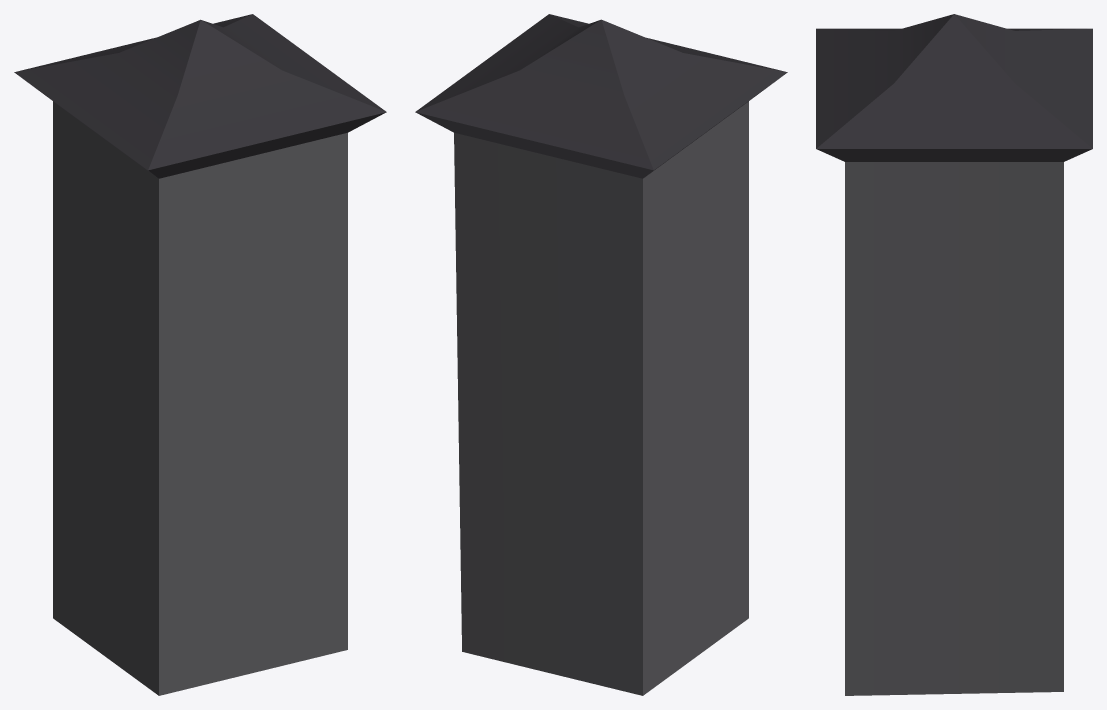
File: castle_fence_column.fbx
3 renders of one model, left to right at view 1: azimuth 30°, elevation 25°; view 2: azimuth 150°, elevation 25°; view 3: azimuth 270°, elevation 25°, orthographic. The views are drawn at different scales.
Visible parts, largest first — view 1: castle_fence_column; view 2: castle_fence_column; view 3: castle_fence_column.
Part boxes in pixels (x1=…): castle_fence_column: x1=14, y1=14, x2=386, y2=695; castle_fence_column: x1=415, y1=14, x2=787, y2=695; castle_fence_column: x1=816, y1=14, x2=1092, y2=695.
Bounding box in the file's own units: 488 × 1199 × 474.
